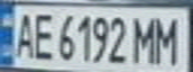1: (72, 11, 93, 63)
2: (109, 11, 130, 64)
6: (54, 10, 78, 62)
9: (90, 11, 112, 63)
A: (9, 8, 39, 60)
E: (30, 8, 57, 61)
M: (151, 11, 187, 65), (130, 12, 163, 65)
